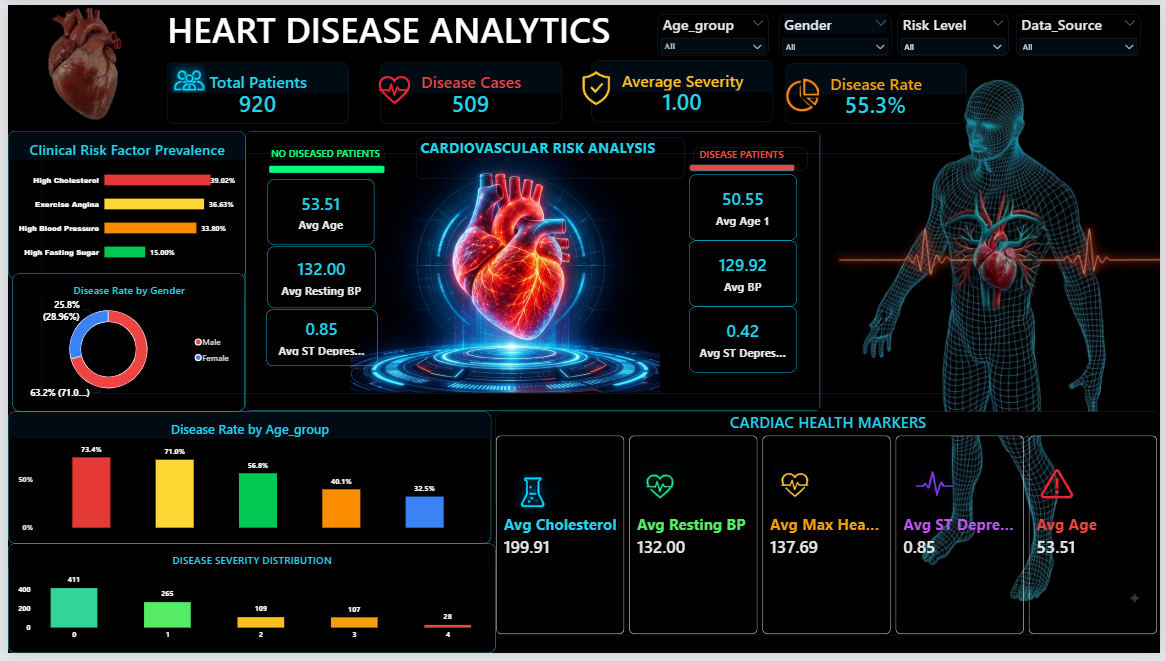

What the dashboard file says about the page in this screenshot:
{"tool":"powerbi","page":{"name":"Heart Disease Dashboard","canvas":[1920,1080],"ordinal":0},"visuals":[{"type":"image","box":[1367.5,15,552.5,1065],"z":0},{"type":"card","title":"Total Patients","fields":{"Values":["HeartDisease.Total Patients"]},"box":[265.4,94.3,302.5,102.5],"z":0,"group":"g1"},{"type":"card","title":"Disease Cases","fields":{"Values":["HeartDisease.Disease Cases"]},"box":[619.7,96.2,302.5,102.5],"z":0,"group":"g2"},{"type":"cardVisual","title":"CARDIAC HEALTH MARKERS","fields":{"Data":["HeartDisease.Average Cholesterol","HeartDisease.Average Resting BP","HeartDisease.Average Max Heart Rate","HeartDisease.Average ST Depression","HeartDisease.Average Age"]},"box":[812.2,677.5,1107.8,372.5],"z":0,"group":"g5"},{"type":"textbox","box":[0,0,1122.5,117.5],"z":1000},{"type":"image","box":[257.1,97.6,87.5,48.3],"z":1000,"group":"g1"},{"type":"image","box":[544.7,101.2,197.5,77.5],"z":1000,"group":"g2"},{"type":"image","box":[805,766.6,158.5,81.6],"z":1000,"group":"g5"},{"type":"image","box":[0,0,257.5,195],"z":1500},{"type":"image","box":[55,247.5,1547.5,400],"z":2000},{"type":"image","box":[1013.9,753.7,158.5,81.6],"z":2000,"group":"g5"},{"type":"image","box":[1242.7,750.5,158.5,81.6],"z":3000,"group":"g5"},{"type":"slicer","fields":{"Values":["HeartDisease.Age_group"]},"box":[1082.5,15,185,70],"z":4000},{"type":"image","box":[1471.5,747.3,158.5,82.7],"z":4000,"group":"g5"},{"type":"slicer","fields":{"Values":["HeartDisease.Gender"]},"box":[1285,15,187.5,70],"z":5000},{"type":"image","box":[1666.9,754.2,158.7,84],"z":5000,"group":"g5"},{"type":"slicer","fields":{"Values":["HeartDisease.Risk Level"]},"box":[1482.5,15,185,70],"z":6000},{"type":"slicer","fields":{"Values":["HeartDisease.Data_Source"]},"box":[1680,15,207.5,70],"z":7000},{"type":"card","title":"Disease Rate","fields":{"Values":["HeartDisease.Disease Rate"]},"box":[1295,98.1,302.5,100],"z":7001,"group":"g3"},{"type":"card","title":"Average Severity","fields":{"Values":["HeartDisease.Average Severity"]},"box":[972.2,92.6,302.5,102.5],"z":7003,"group":"g4"},{"type":"image","box":[1235,105.6,168.9,86.7],"z":7008,"group":"g3"},{"type":"image","box":[917.2,92.6,130,90],"z":7010,"group":"g4"},{"type":"group","id":"g1","title":"Group 2","box":[257.1,94.3,310,102.5],"z":8000},{"type":"group","id":"g2","title":"Group 3","box":[544.7,96.2,377.5,102.5],"z":9000},{"type":"group","id":"g3","title":"Group 4","box":[1235,98.1,362.5,100],"z":10000},{"type":"group","id":"g4","title":"Group 5","box":[917.2,92.6,357.5,102.5],"z":11000},{"type":"clusteredBarChart","title":"Clinical Risk Factor Prevalence","fields":{"Category":["Factor.RF"],"Y":["Factor.Risk Factor %"]},"box":[0,210,396,246],"z":12000},{"type":"clusteredColumnChart","fields":{"Category":["HeartDisease.Age_group"],"Y":["HeartDisease.Disease Rate"]},"box":[0,677.5,805,220],"z":13000},{"type":"donutChart","fields":{"Category":["HeartDisease.Gender"],"Y":["HeartDisease.Disease Rate"]},"box":[7.5,447.5,387.5,230],"z":14000},{"type":"clusteredColumnChart","title":"DISEASE SEVERITY DISTRIBUTION","fields":{"Category":["HeartDisease.Disease_Severity"],"Y":["HeartDisease.Total Patients"]},"box":[0,897.5,812.5,182.5],"z":15000},{"type":"group","id":"g5","title":"Group 6","box":[805,677.5,1115,372.5],"z":16000},{"type":"shape","box":[395,210,960,467.5],"z":17000},{"type":"textbox","box":[439,234.8,190,32],"z":17000,"group":"g6"},{"type":"shape","box":[435.7,268.6,192.9,12.9],"z":18000},{"type":"card","fields":{"Values":["HeartDisease.Avg Age"]},"box":[431.8,290.3,178.1,109.8],"z":20000},{"type":"group","id":"g6","title":"Group 7","box":[430.6,234.8,902.9,365.7],"z":21000},{"type":"card","fields":{"Values":["HeartDisease.Avg Resting BP"]},"box":[433.1,402.3,180,102.5],"z":21000,"group":"g6"},{"type":"shape","box":[1135.7,264.3,177.1,12.9],"z":22000},{"type":"card","fields":{"Values":["HeartDisease.Avg BP"]},"box":[1135,392.4,180,110],"z":22000,"group":"g7"},{"type":"card","fields":{"Values":["HeartDisease.Avg ST Depression"]},"box":[430.6,506.5,186,94],"z":22000,"group":"g6"},{"type":"card","fields":{"Values":["HeartDisease.Avg Age 1"]},"box":[1135,282.5,180,110],"z":23000},{"type":"card","fields":{"Values":["HeartDisease.Avg ST Depression 1"]},"box":[1135,502.4,180,110],"z":23000,"group":"g7"},{"type":"textbox","box":[1143.5,237.7,190,38.6],"z":23002,"group":"g6"},{"type":"group","id":"g7","title":"Group 8","box":[1135,392.4,180,220],"z":24000},{"type":"textbox","box":[680,220,447.5,70],"z":25000}]}

Visuals, with their boxes in screenshot pixels (x1, y1, x2, y2), scaled from the page's 1920x1080 canvas onto the 1165x661 screenshot:
image: {"left": 830, "top": 9, "right": 1164, "bottom": 660}
"Total Patients" card: {"left": 161, "top": 58, "right": 345, "bottom": 120}
"Disease Cases" card: {"left": 376, "top": 59, "right": 560, "bottom": 122}
"CARDIAC HEALTH MARKERS" cardVisual: {"left": 493, "top": 415, "right": 1164, "bottom": 643}
textbox: {"left": 0, "top": 0, "right": 681, "bottom": 72}
image: {"left": 156, "top": 60, "right": 209, "bottom": 89}
image: {"left": 331, "top": 62, "right": 450, "bottom": 109}
image: {"left": 488, "top": 469, "right": 585, "bottom": 519}
image: {"left": 0, "top": 0, "right": 156, "bottom": 119}
image: {"left": 33, "top": 151, "right": 972, "bottom": 396}
image: {"left": 615, "top": 461, "right": 711, "bottom": 511}
image: {"left": 754, "top": 459, "right": 850, "bottom": 509}
slicer - HeartDisease.Age_group: {"left": 657, "top": 9, "right": 769, "bottom": 52}
image: {"left": 893, "top": 457, "right": 989, "bottom": 508}
slicer - HeartDisease.Gender: {"left": 780, "top": 9, "right": 893, "bottom": 52}
image: {"left": 1011, "top": 462, "right": 1108, "bottom": 513}
slicer - HeartDisease.Risk Level: {"left": 900, "top": 9, "right": 1012, "bottom": 52}
slicer - HeartDisease.Data_Source: {"left": 1019, "top": 9, "right": 1145, "bottom": 52}
"Disease Rate" card: {"left": 786, "top": 60, "right": 969, "bottom": 121}
"Average Severity" card: {"left": 590, "top": 57, "right": 773, "bottom": 119}
image: {"left": 749, "top": 65, "right": 852, "bottom": 118}
image: {"left": 557, "top": 57, "right": 635, "bottom": 112}
"Group 2" group: {"left": 156, "top": 58, "right": 344, "bottom": 120}
"Group 3" group: {"left": 331, "top": 59, "right": 560, "bottom": 122}
"Group 4" group: {"left": 749, "top": 60, "right": 969, "bottom": 121}
"Group 5" group: {"left": 557, "top": 57, "right": 773, "bottom": 119}
"Clinical Risk Factor Prevalence" clusteredBarChart: {"left": 0, "top": 129, "right": 240, "bottom": 279}
clusteredColumnChart - HeartDisease.Age_group x HeartDisease.Disease Rate: {"left": 0, "top": 415, "right": 488, "bottom": 549}
donutChart - HeartDisease.Gender x HeartDisease.Disease Rate: {"left": 5, "top": 274, "right": 240, "bottom": 415}
"DISEASE SEVERITY DISTRIBUTION" clusteredColumnChart: {"left": 0, "top": 549, "right": 493, "bottom": 660}
"Group 6" group: {"left": 488, "top": 415, "right": 1164, "bottom": 643}
shape: {"left": 240, "top": 129, "right": 822, "bottom": 415}
textbox: {"left": 266, "top": 144, "right": 382, "bottom": 163}
shape: {"left": 264, "top": 164, "right": 381, "bottom": 172}
card - HeartDisease.Avg Age: {"left": 262, "top": 178, "right": 370, "bottom": 245}
"Group 7" group: {"left": 261, "top": 144, "right": 809, "bottom": 368}
card - HeartDisease.Avg Resting BP: {"left": 263, "top": 246, "right": 372, "bottom": 309}
shape: {"left": 689, "top": 162, "right": 797, "bottom": 170}
card - HeartDisease.Avg BP: {"left": 689, "top": 240, "right": 798, "bottom": 307}
card - HeartDisease.Avg ST Depression: {"left": 261, "top": 310, "right": 374, "bottom": 368}
card - HeartDisease.Avg Age 1: {"left": 689, "top": 173, "right": 798, "bottom": 240}
card - HeartDisease.Avg ST Depression 1: {"left": 689, "top": 307, "right": 798, "bottom": 375}
textbox: {"left": 694, "top": 145, "right": 809, "bottom": 169}
"Group 8" group: {"left": 689, "top": 240, "right": 798, "bottom": 375}
textbox: {"left": 413, "top": 135, "right": 684, "bottom": 177}
